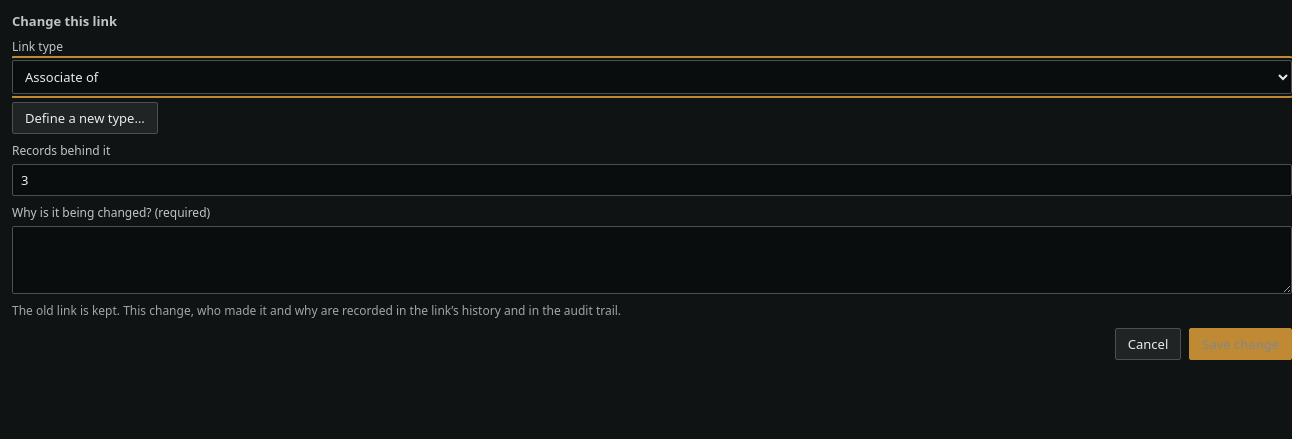
it: LinkChange › shows the fields the chosen type records, and says which are required
This screenshot has width=1292, height=439.
Select "Family of" in the dropdown labelled "Link type" at {"x": 652, "y": 77}, box x1=12 y1=60 x2=1291 y2=94
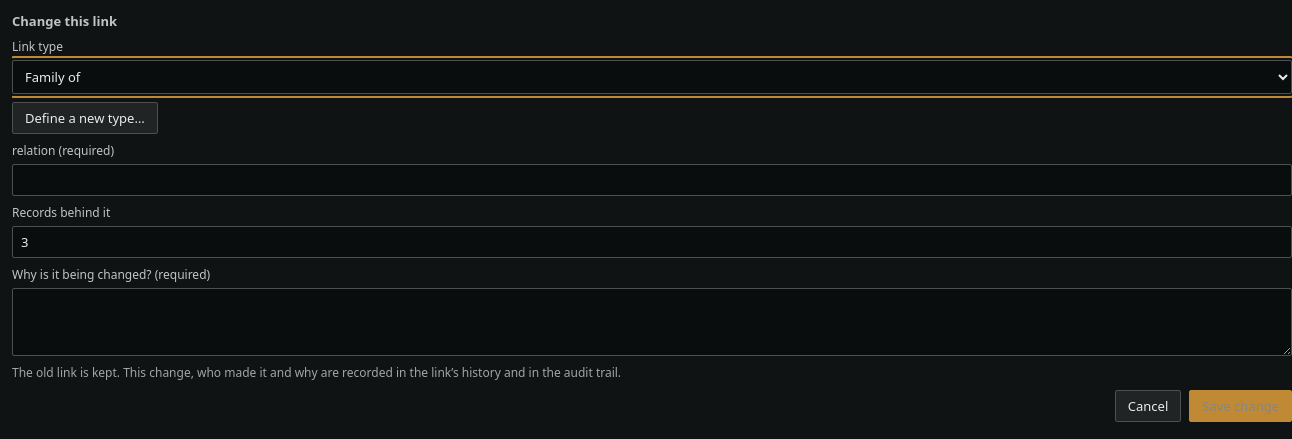
Expected: the field labelled "relation (required)" is shown, x1=12 y1=164 x2=1291 y2=196
